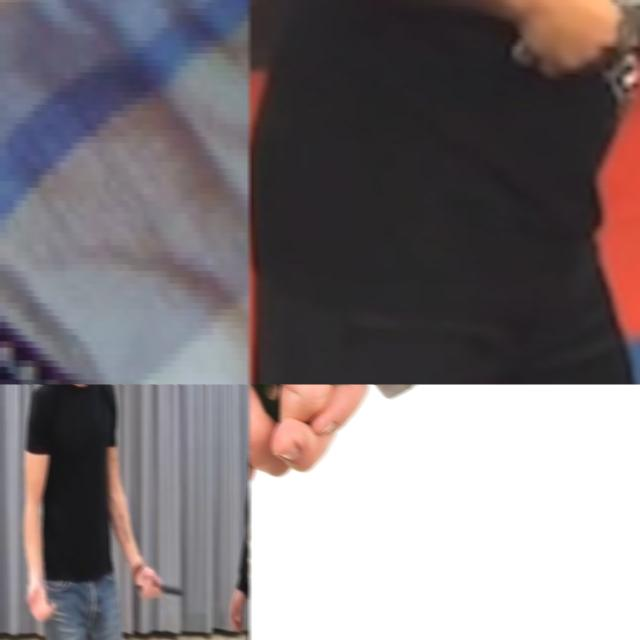Knife: (0, 110, 107, 384)
Knife_Handle: (248, 384, 640, 492), (510, 0, 640, 70), (511, 0, 640, 69), (134, 564, 185, 599)
